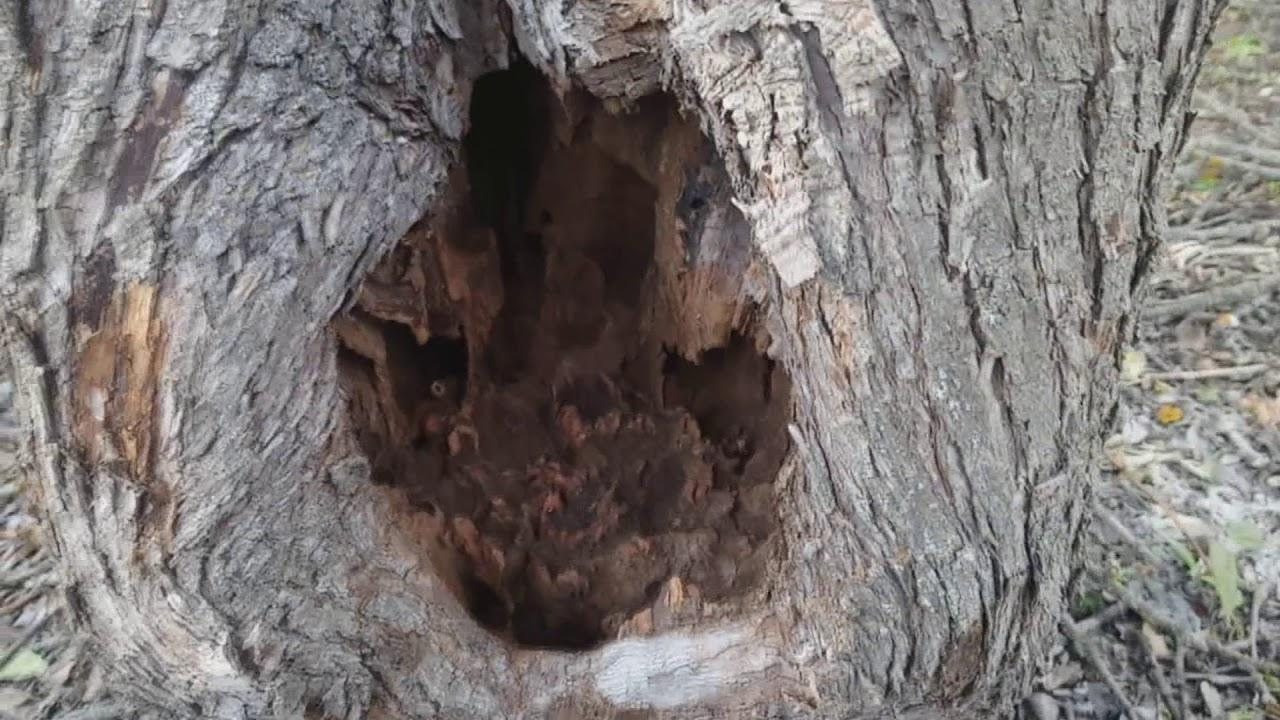hollow: (334, 65, 789, 647)
